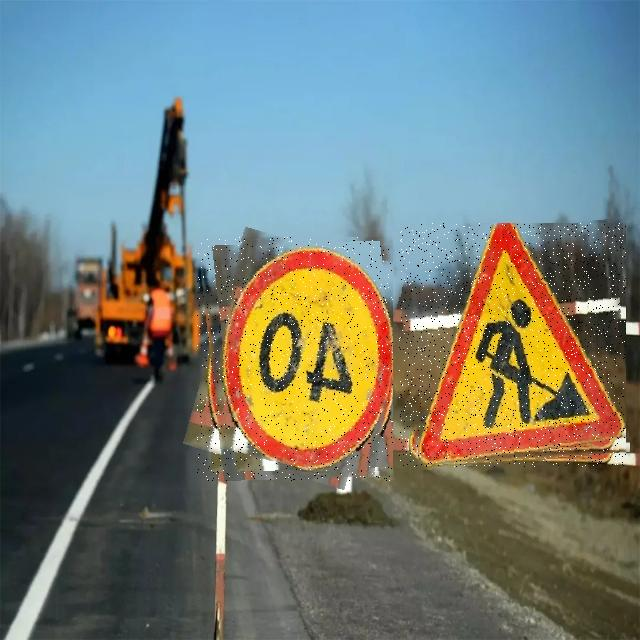roadwork: (399, 223, 626, 467)
speed limit 40: (197, 237, 393, 481)
